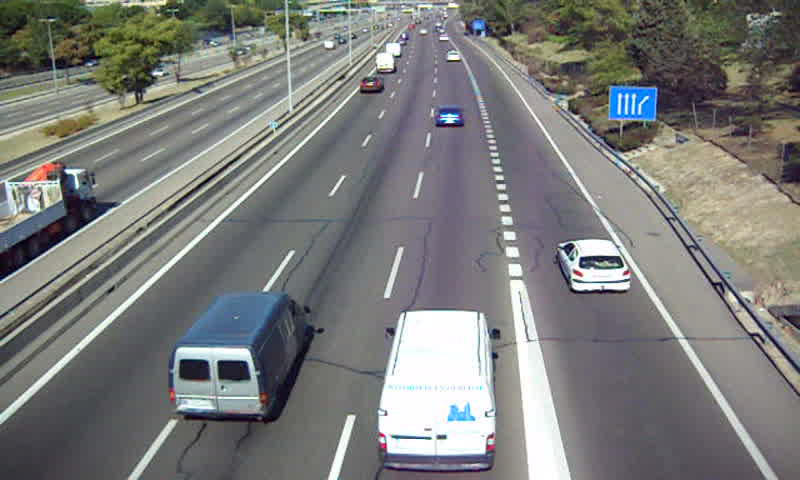car: (557, 238, 632, 295), (433, 105, 466, 128), (358, 75, 384, 94)
van: (378, 310, 498, 473), (167, 292, 310, 420), (374, 52, 396, 74)
